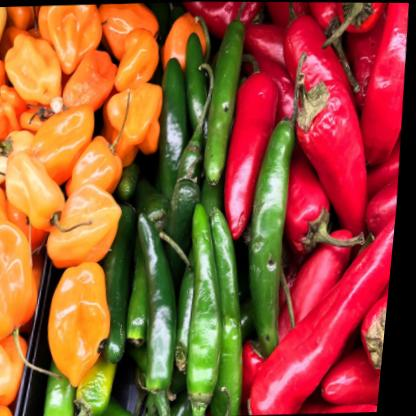--: (246, 193, 402, 415), (239, 44, 323, 351), (182, 195, 245, 416), (129, 200, 195, 403), (195, 4, 259, 187)
